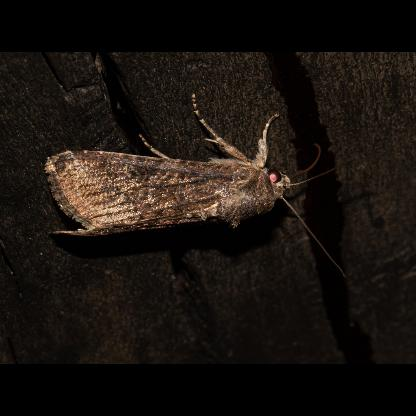Fall Armyworm Moth: (42, 91, 378, 281)
